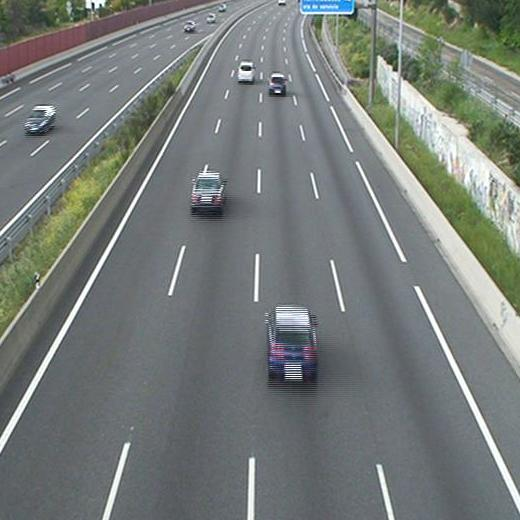car: (265, 304, 319, 382), (189, 173, 227, 215), (268, 72, 287, 97), (238, 61, 255, 84)
